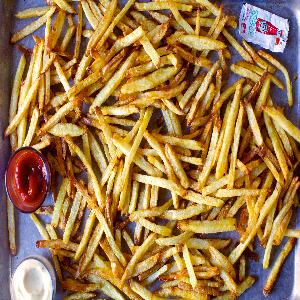fries_350cal: (51, 11, 247, 298)
